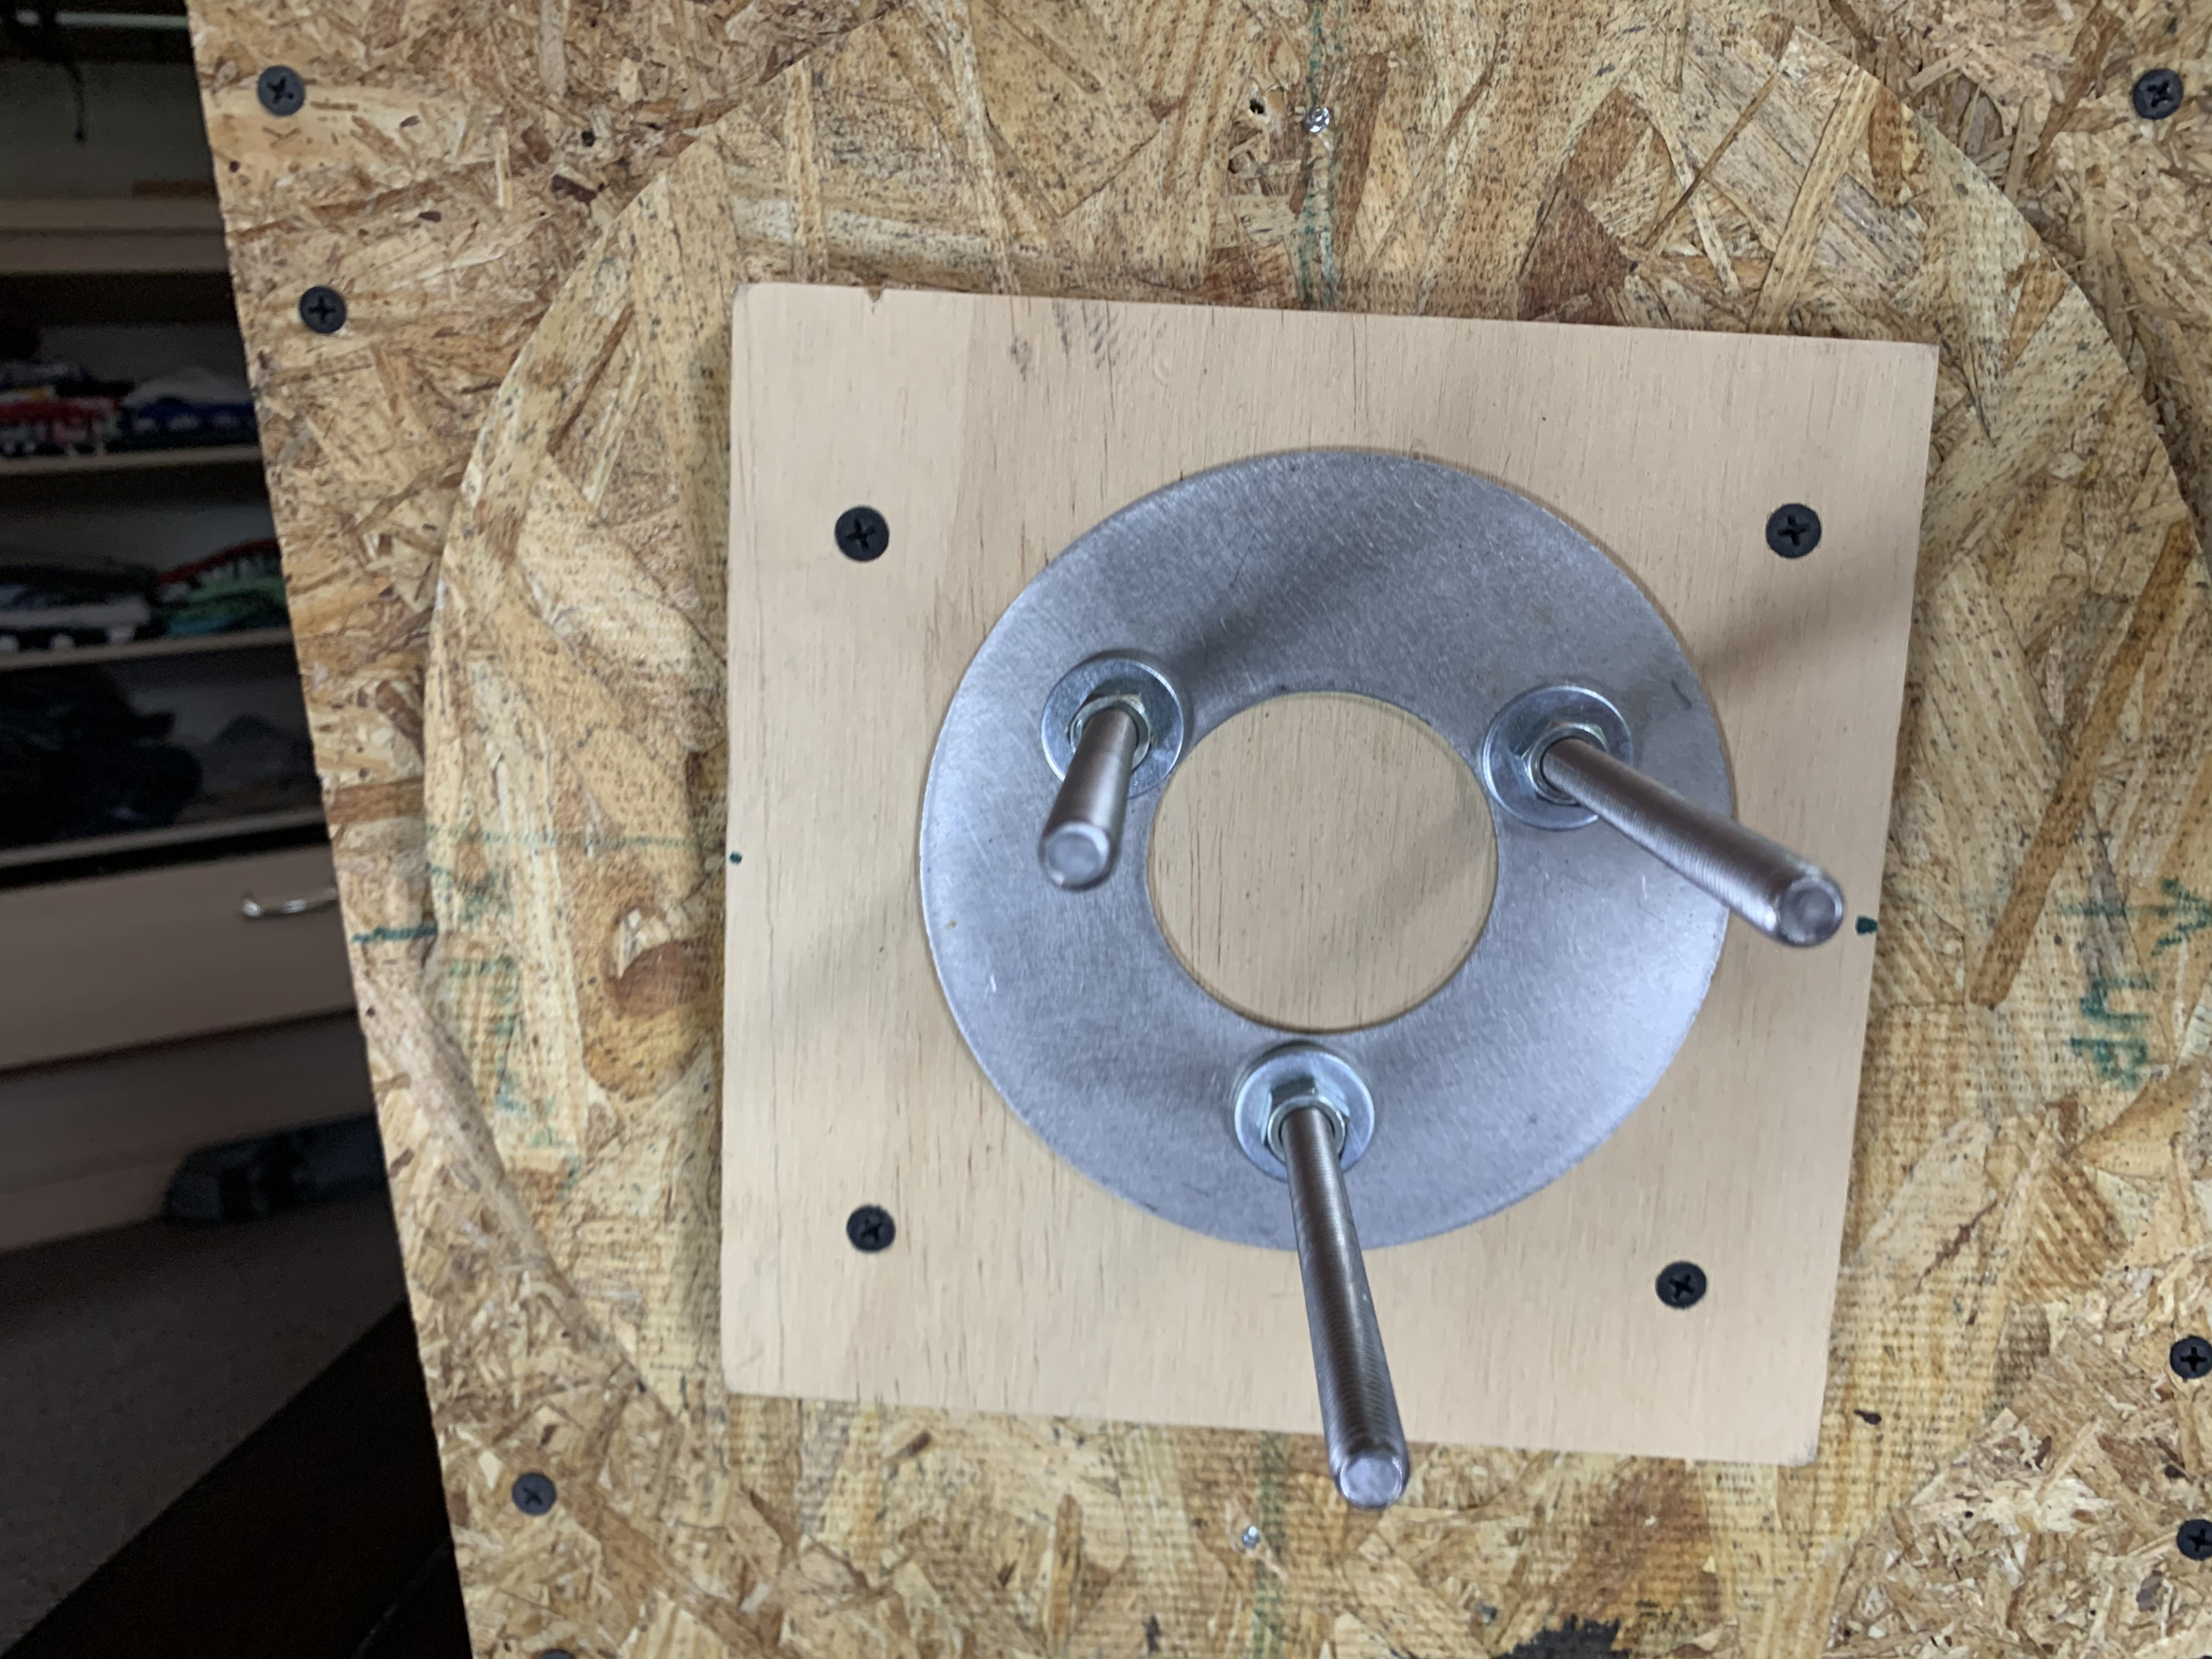bolt: (1480, 681, 1635, 833), (1042, 647, 1191, 798), (1228, 1039, 1378, 1185)
